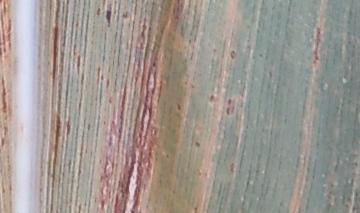tarspot: (104, 8, 113, 28)
